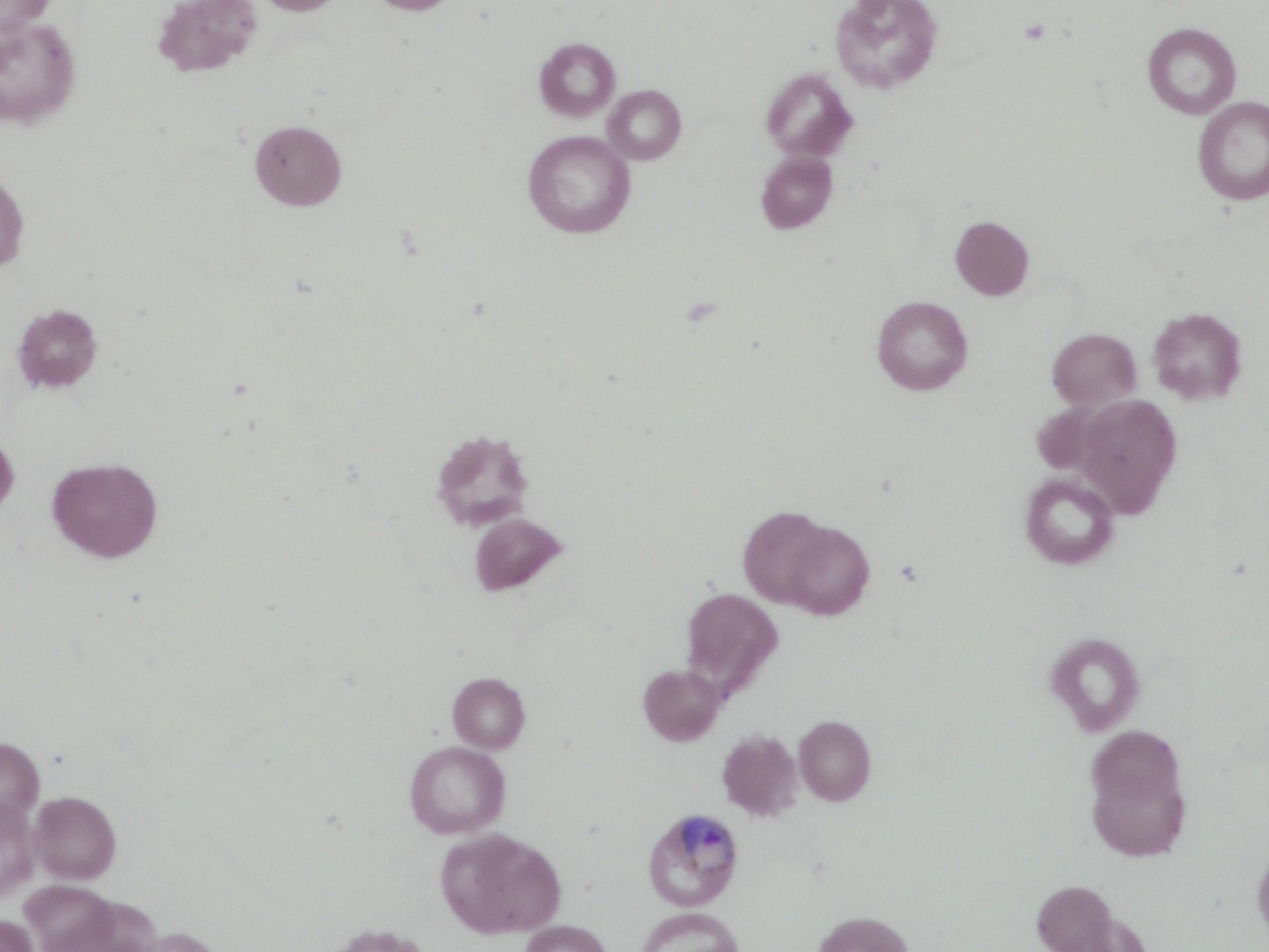Infected: (649, 816, 734, 908)
Uninfected: (744, 513, 865, 614), (442, 834, 558, 935), (1075, 398, 1176, 513), (1089, 731, 1182, 854), (528, 137, 627, 231), (52, 466, 153, 556), (686, 595, 778, 692), (411, 747, 504, 834), (1051, 640, 1138, 733), (438, 441, 529, 529), (839, 1, 934, 85), (878, 303, 965, 388), (1027, 480, 1113, 562), (0, 25, 73, 120), (1154, 315, 1239, 396), (160, 0, 256, 71), (32, 798, 114, 881), (1149, 29, 1233, 110), (1199, 102, 1269, 198), (24, 884, 124, 951), (767, 77, 851, 156), (257, 128, 340, 205), (476, 518, 562, 590), (722, 737, 798, 817), (1051, 335, 1134, 404), (19, 311, 95, 386), (798, 723, 869, 801), (540, 44, 617, 115), (644, 671, 719, 743), (606, 91, 682, 161), (452, 678, 525, 749), (956, 223, 1029, 294), (761, 159, 833, 228), (1038, 409, 1093, 472)
